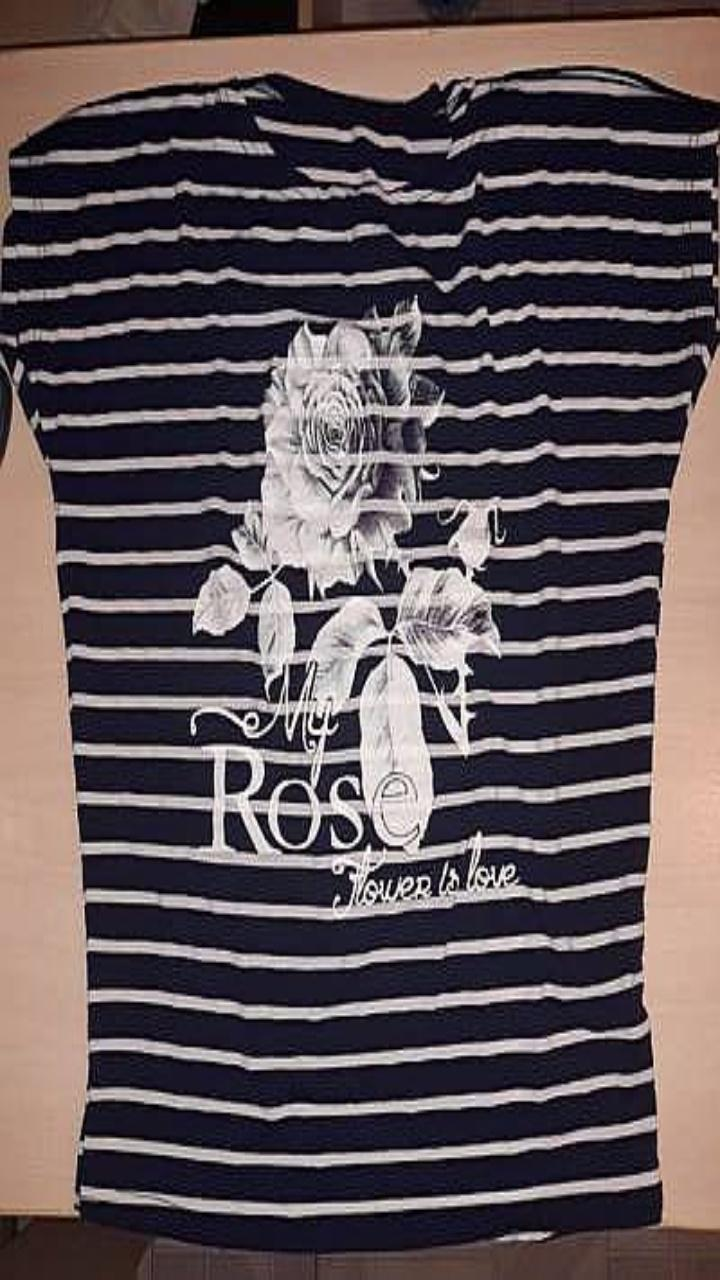T-Shirt: (0, 65, 719, 1250)
